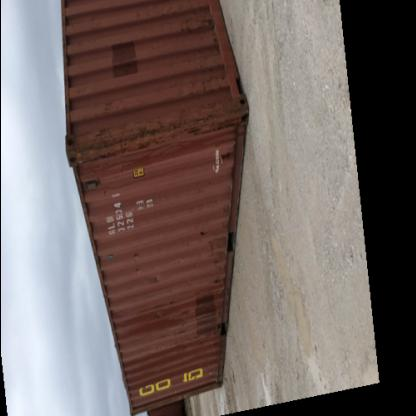Damage: (65, 102, 243, 148), (190, 315, 223, 356), (138, 298, 182, 328), (188, 68, 235, 96), (172, 10, 216, 38), (188, 225, 218, 255), (208, 150, 234, 172), (203, 268, 225, 294), (123, 250, 143, 278), (144, 270, 166, 292), (96, 248, 116, 265)
